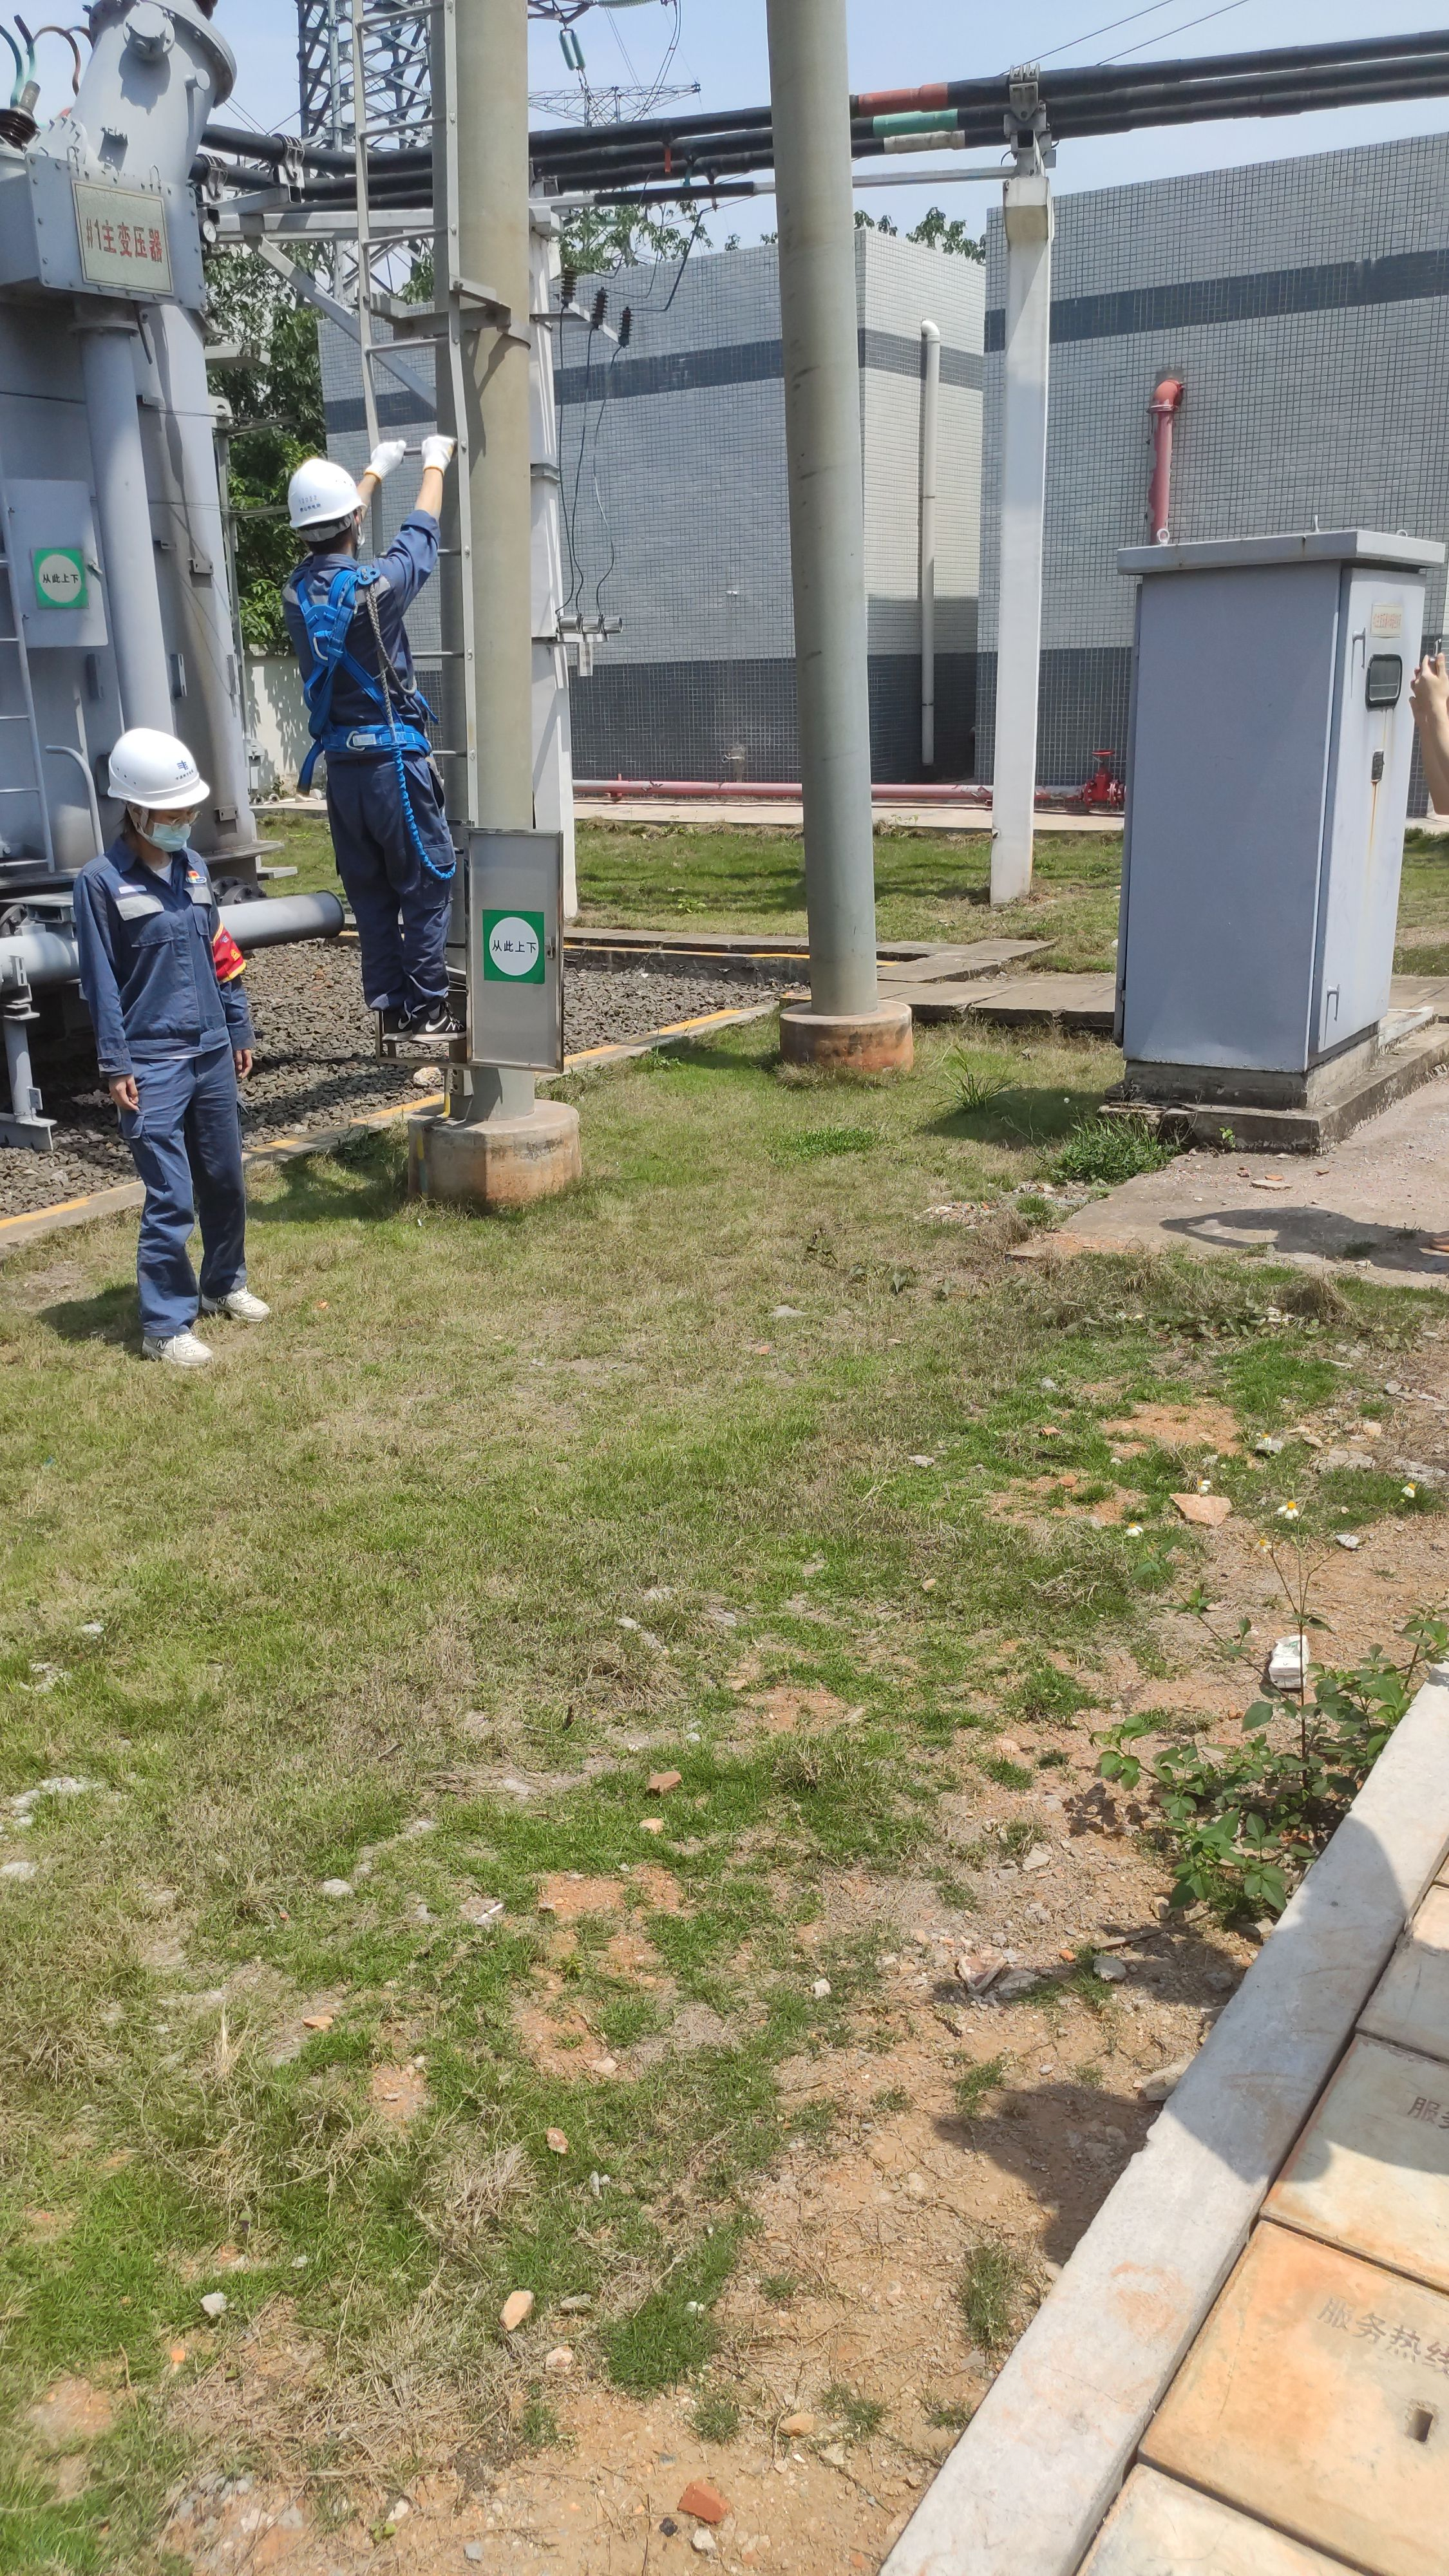badge: (211, 932, 251, 985)
downsuit: (322, 766, 463, 1014), (122, 1070, 253, 1318)
halt: (104, 724, 211, 853), (285, 457, 369, 560)
hand: (109, 1075, 140, 1113), (232, 1046, 256, 1083)
intosign: (478, 907, 545, 984), (27, 544, 91, 611)
person: (66, 718, 270, 1358), (283, 441, 473, 1063)
upsuit: (66, 848, 256, 1063), (279, 525, 446, 753)
wglove: (363, 437, 406, 481), (417, 431, 460, 475)
wrongtop: (402, 455, 453, 540)
